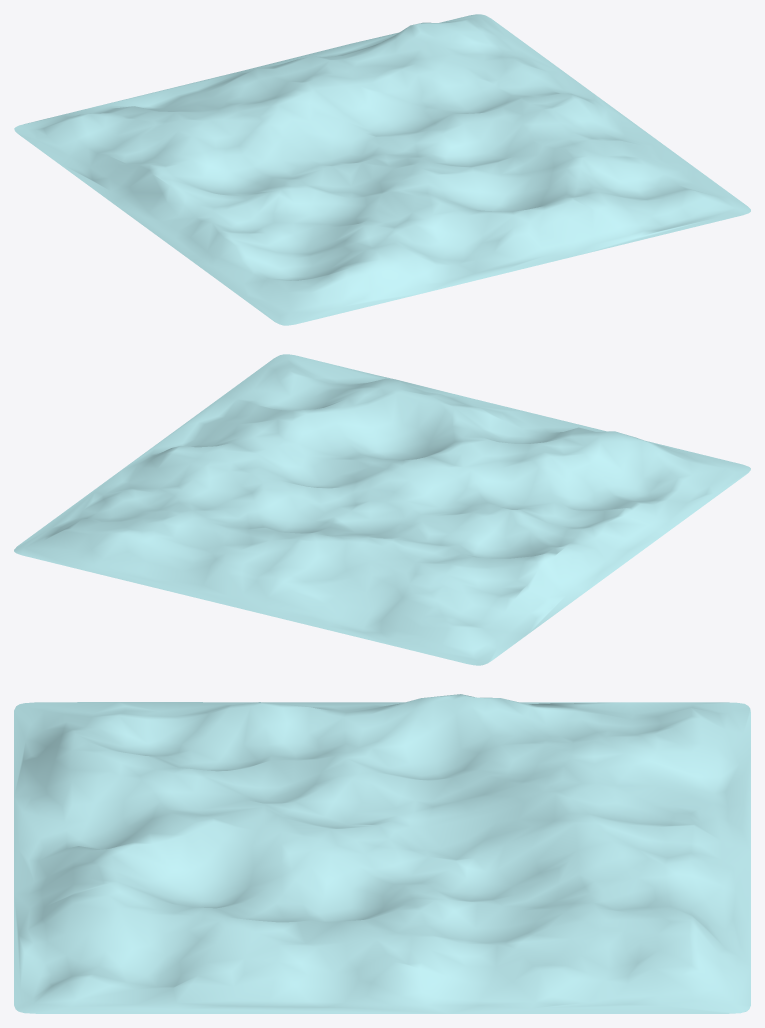
The model's file is snow_004.fbx.
The picture shows the model from 3 angles, top to bottom: view 1: azimuth 30°, elevation 25°; view 2: azimuth 150°, elevation 25°; view 3: azimuth 270°, elevation 25°; orthographic projection. The views are drawn at different scales.
Visible parts, largest first — view 1: snow_004; view 2: snow_004; view 3: snow_004.
Part boxes in pixels (x1,y1,x2,y2): snow_004: (14, 14, 750, 325); snow_004: (14, 354, 750, 665); snow_004: (14, 694, 750, 1013).
Bounding box in the file's own units: 2779 × 2779 × 184.
